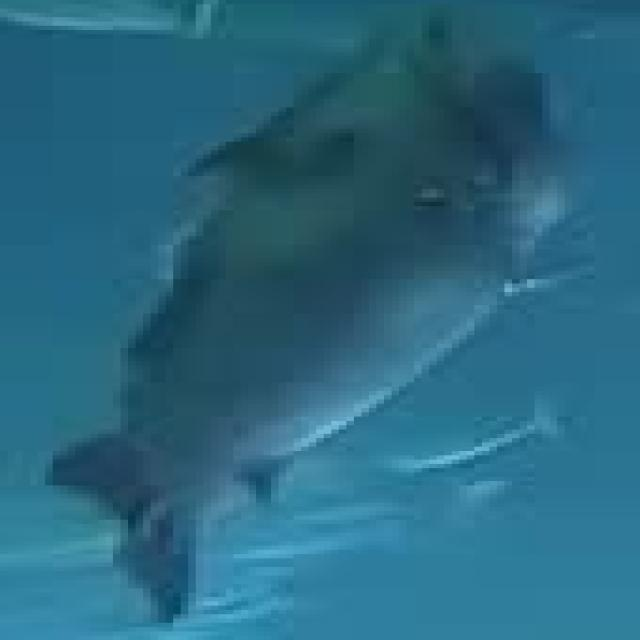fish: (7, 1, 640, 636)
